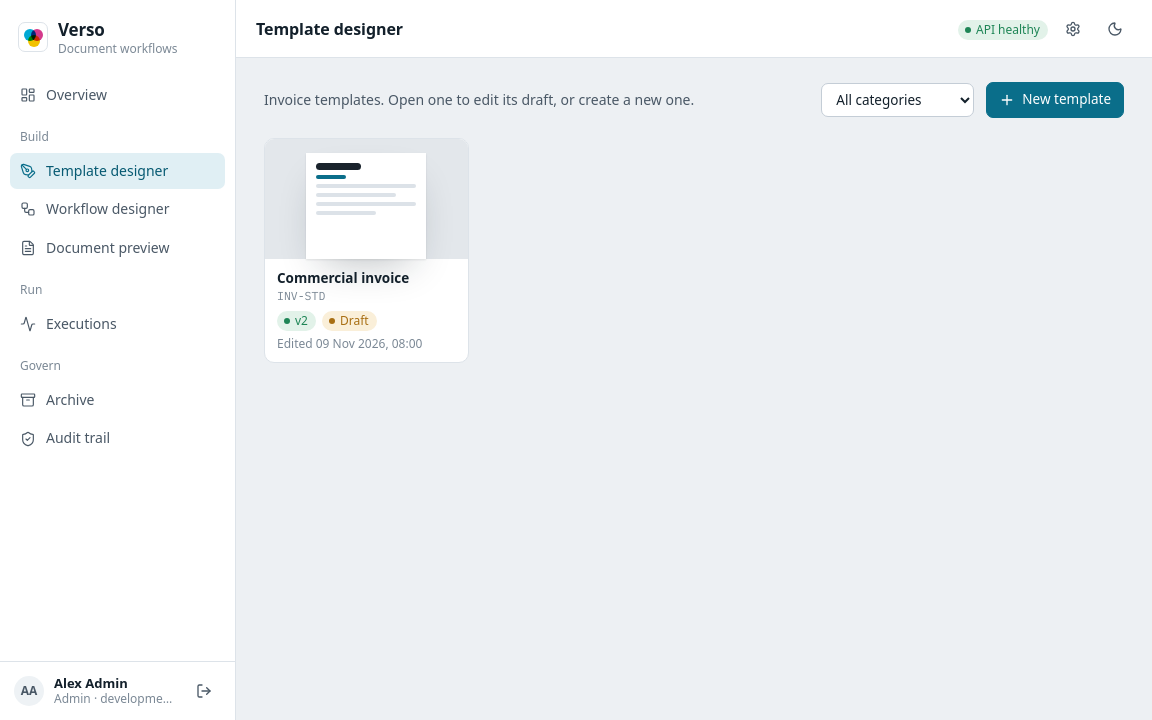
Test: Template list › creates a template and opens it in the designer; a taken key is shown on the field
This screenshot has width=1152, height=720.
Later steps or results of the test are not shown.
Click the button "New template" at (1055, 100), box [986,82,1124,118]
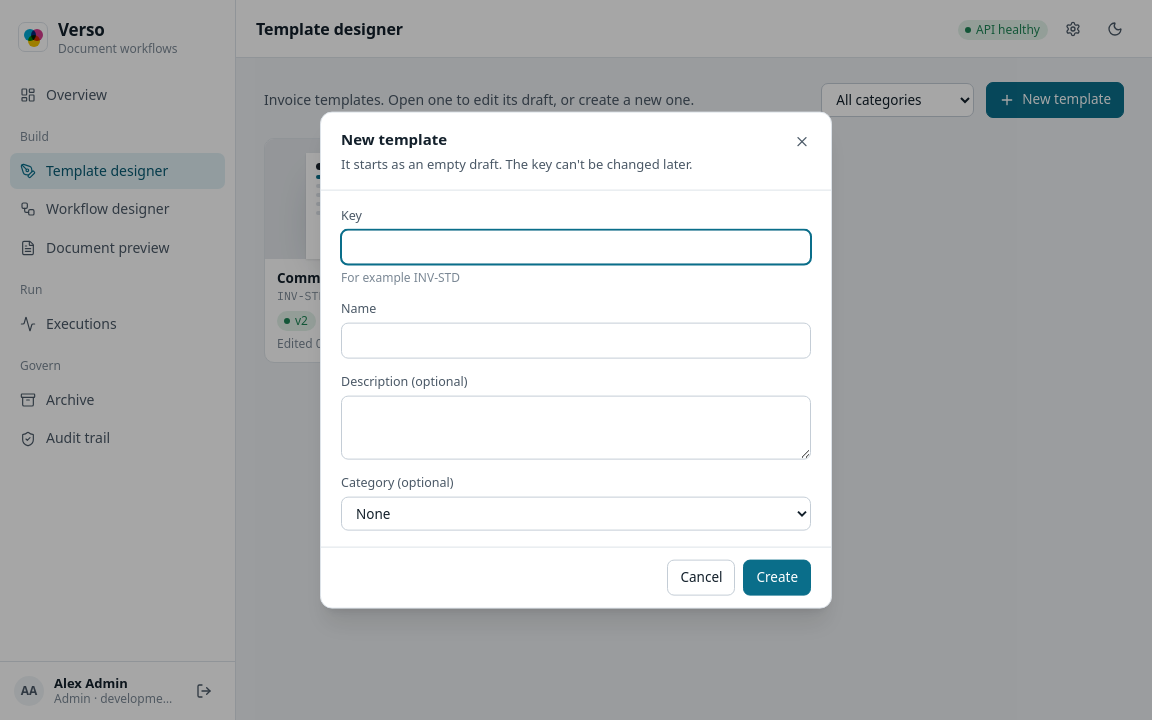
Type "inv-new" into the field labelled "Key" at (576, 247), box [341,229,811,265]
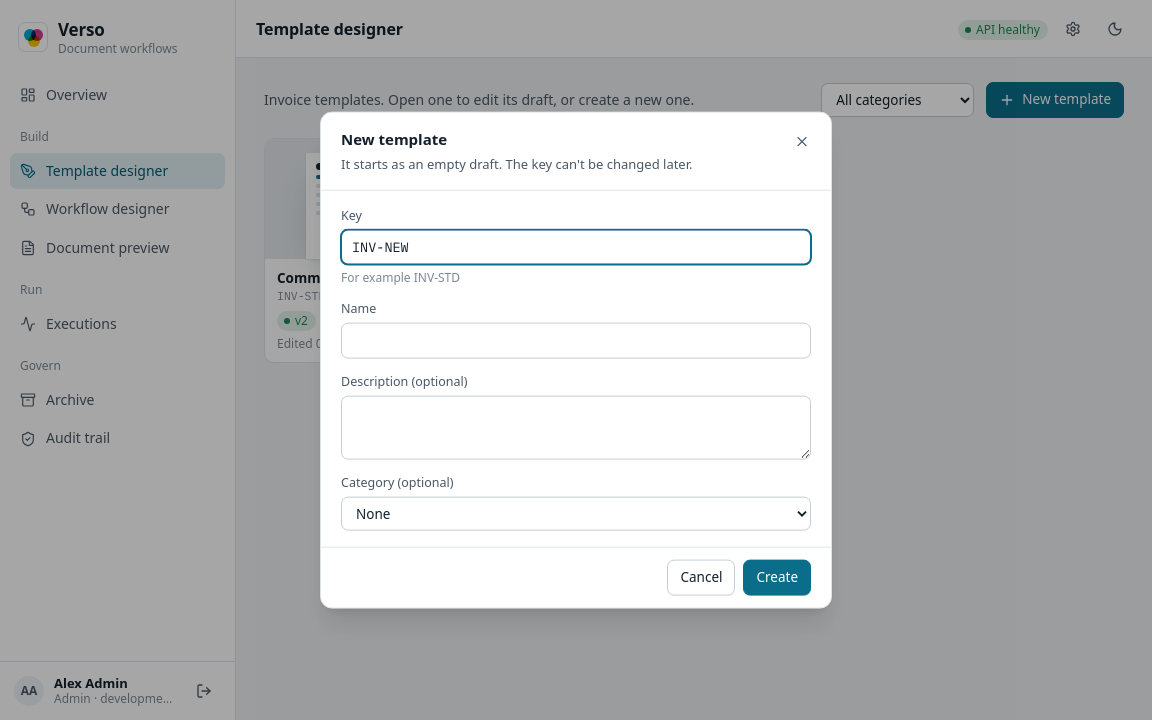
Type "New invoice" into the field labelled "Name" at (576, 341), box [341,323,811,359]
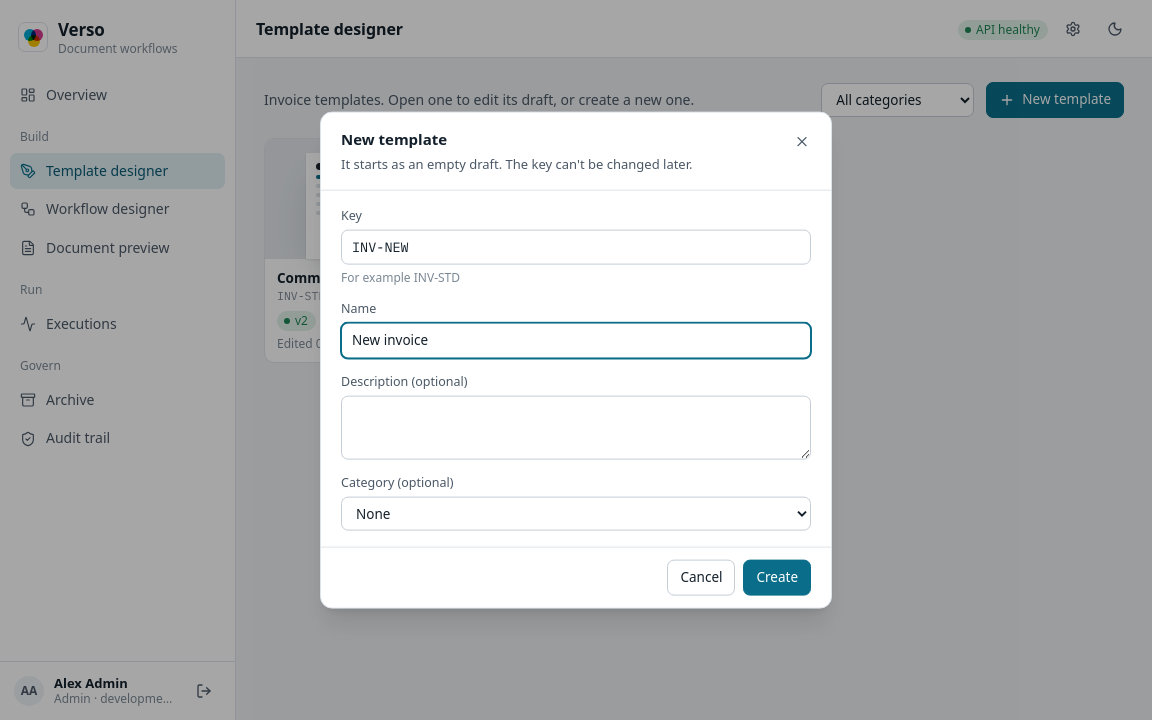
Click the button "Create" at (777, 578), box [744,560,811,595]
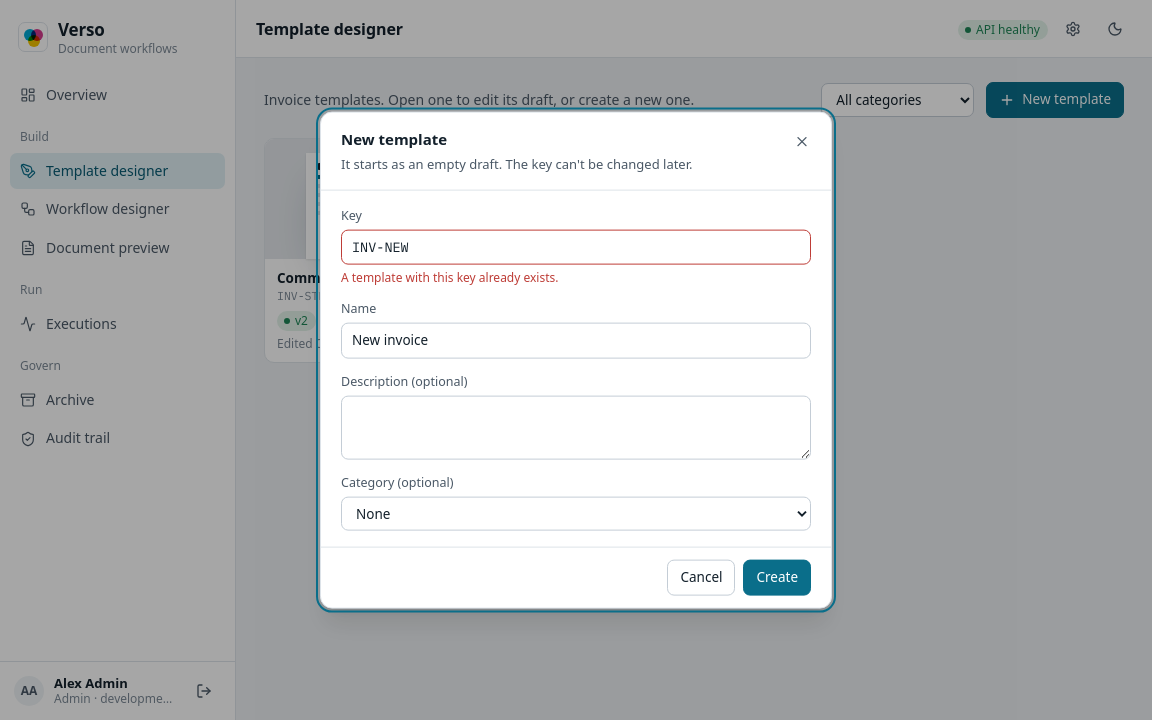
Now the text "A template with this key already exists." is shown, box [341,269,558,286]
